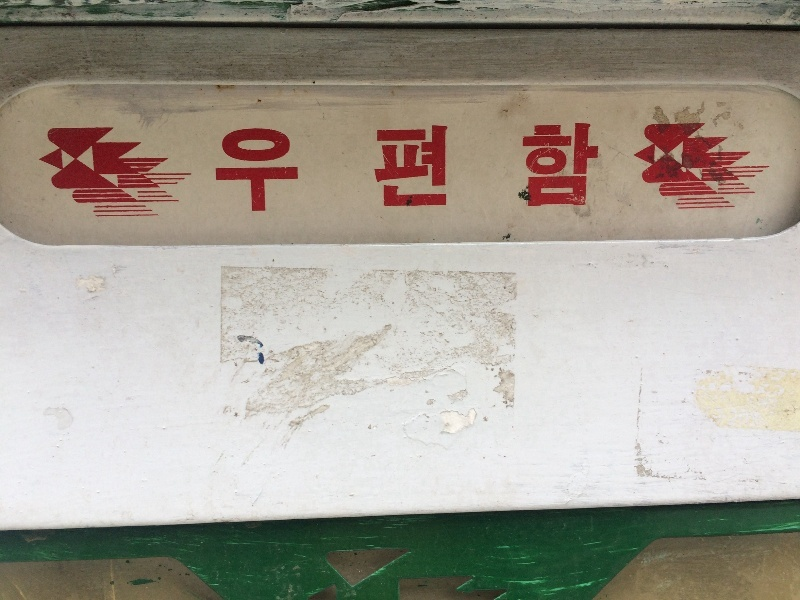text: (209, 120, 224, 212), (225, 120, 240, 212), (241, 120, 256, 212), (257, 120, 272, 212), (273, 120, 288, 212), (289, 120, 304, 212), (305, 120, 320, 212), (321, 120, 336, 212), (337, 120, 352, 212), (353, 120, 368, 212), (369, 120, 384, 212), (385, 120, 400, 212), (401, 120, 416, 212), (417, 120, 432, 212), (433, 120, 448, 212), (449, 120, 464, 212), (465, 120, 480, 212), (481, 120, 496, 212), (497, 120, 512, 212), (513, 120, 528, 212), (529, 120, 544, 212), (545, 120, 560, 212), (561, 120, 576, 212), (577, 120, 592, 212), (593, 120, 601, 212)
